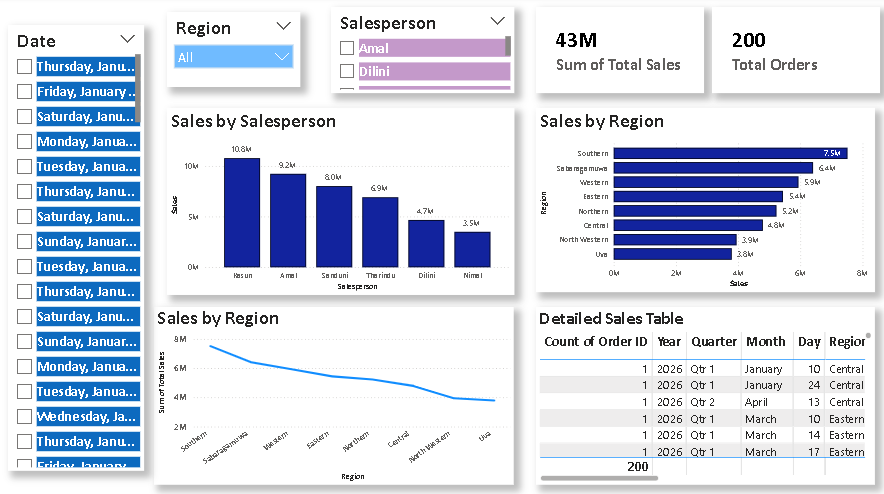

The page's visual inventory and layout, read from the dashboard file:
{"tool":"powerbi","page":{"name":"Page 3","canvas":[1280,720],"ordinal":2},"visuals":[{"type":"cardVisual","fields":{"Data":["Sum(Sales_Data.Total Sales)"]},"box":[774.7,14.4,241.9,123.8],"z":0},{"type":"cardVisual","fields":{"Data":["Sales_Data.Total Orders"]},"box":[1028.2,14.4,241.9,123.8],"z":1000},{"type":"clusteredBarChart","title":" Sales by Region","fields":{"Category":["Sales_Data.Region"],"Y":["Sum(Sales_Data.Total Sales)"]},"box":[774.7,159.8,488.2,265],"z":2000},{"type":"columnChart","title":" Sales by Salesperson","fields":{"Y":["Sum(Sales_Data.Total Sales)"],"Category":["Sales_Data.Salesperson"]},"box":[243.4,159.8,499.7,269.3],"z":3000},{"type":"lineChart","title":" Sales by Region","fields":{"Y":["Sum(Sales_Data.Total Sales)"],"Category":["Sales_Data.Region"]},"box":[224.6,446.4,518.4,256.3],"z":4000},{"type":"tableEx","title":"Detailed Sales Table","fields":{"Values":["CountNonNull(Sales_Data.Order ID)","Sales_Data.Date.Variation.Date Hierarchy.Year","Sales_Data.Date.Variation.Date Hierarchy.Quarter","Sales_Data.Date.Variation.Date Hierarchy.Month","Sales_Data.Date.Variation.Date Hierarchy.Day","Sales_Data.Region","Sales_Data.Salesperson","Sales_Data.Product","Sales_Data.Category","Sum(Sales_Data.Quantity)","Sum(Sales_Data.Unit Price)","Sum(Sales_Data.Total Sales)"]},"box":[774.7,446.4,488.2,256.3],"z":5000},{"type":"slicer","fields":{"Values":["Sales_Data.Date"]},"box":[14.4,40.3,195.8,642.2],"z":6000},{"type":"slicer","fields":{"Values":["Sales_Data.Region"]},"box":[243.4,21.6,191.5,108],"z":7000},{"type":"slicer","fields":{"Values":["Sales_Data.Salesperson"]},"box":[479.5,14.4,263.5,123.8],"z":8000}]}

Visuals, with their boxes in screenshot pixels (x1, y1, x2, y2), scaled from the page's 1280x720 canvas onto the 884x494 screenshot:
cardVisual - Sum(Sales_Data.Total Sales): select_region(535, 10, 702, 95)
cardVisual - Sales_Data.Total Orders: select_region(710, 10, 877, 95)
" Sales by Region" clusteredBarChart: select_region(535, 110, 872, 291)
" Sales by Salesperson" columnChart: select_region(168, 110, 513, 294)
" Sales by Region" lineChart: select_region(155, 306, 513, 482)
"Detailed Sales Table" tableEx: select_region(535, 306, 872, 482)
slicer - Sales_Data.Date: select_region(10, 28, 145, 468)
slicer - Sales_Data.Region: select_region(168, 15, 300, 89)
slicer - Sales_Data.Salesperson: select_region(331, 10, 513, 95)
